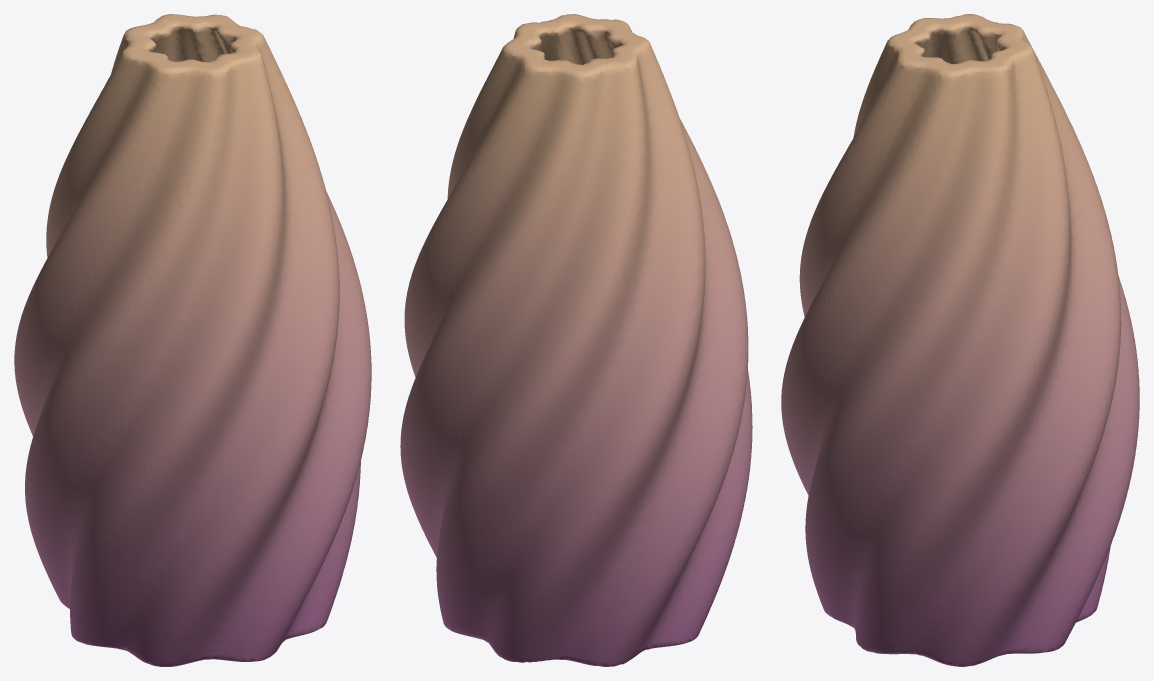
File: vase_96000.glb
The picture shows the model from 3 angles, left to right: view 1: azimuth 30°, elevation 25°; view 2: azimuth 150°, elevation 25°; view 3: azimuth 270°, elevation 25°; orthographic projection.
Parts seen in each view (by area): view 1: vase_96000; view 2: vase_96000; view 3: vase_96000.
Part boxes in pixels (bbox=[...]): vase_96000: bbox=[14, 14, 371, 666]; vase_96000: bbox=[400, 14, 752, 666]; vase_96000: bbox=[781, 14, 1139, 666].
Bounding box in the file's own units: 0.0529 × 0.0925 × 0.0529.
